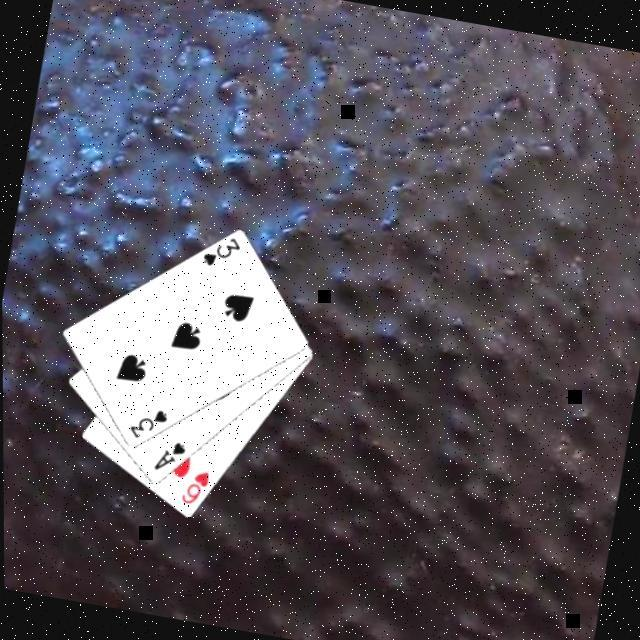3S: (122, 399, 168, 444), (196, 228, 242, 272)
6H: (174, 463, 210, 508)
AS: (146, 432, 188, 476)
